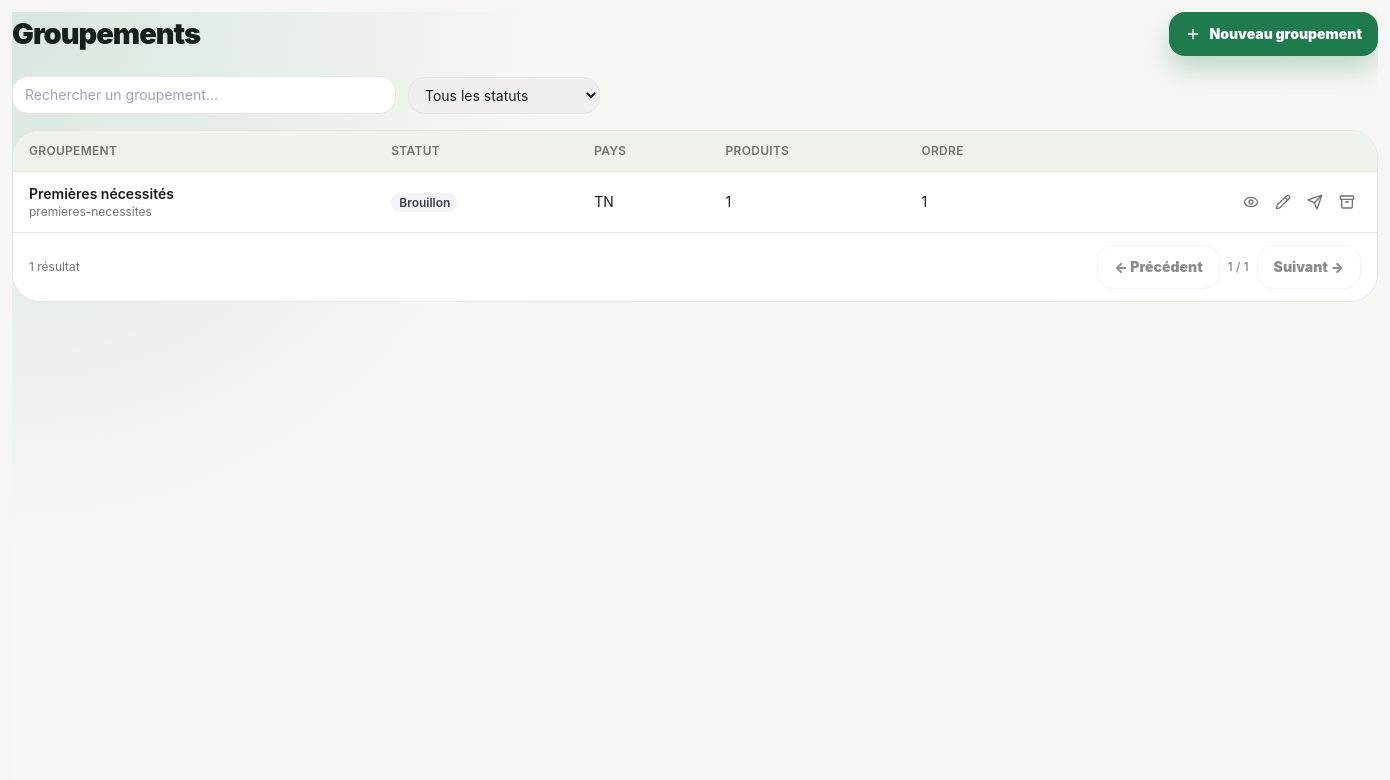
GroupementsPage › ouvre le détail, édite les items, ajoute une référence produit et affiche le refus doublon
Step 1. Click the button named "Voir le détail Premières nécessités" → click(1251, 202), box [1237,188,1265,216]
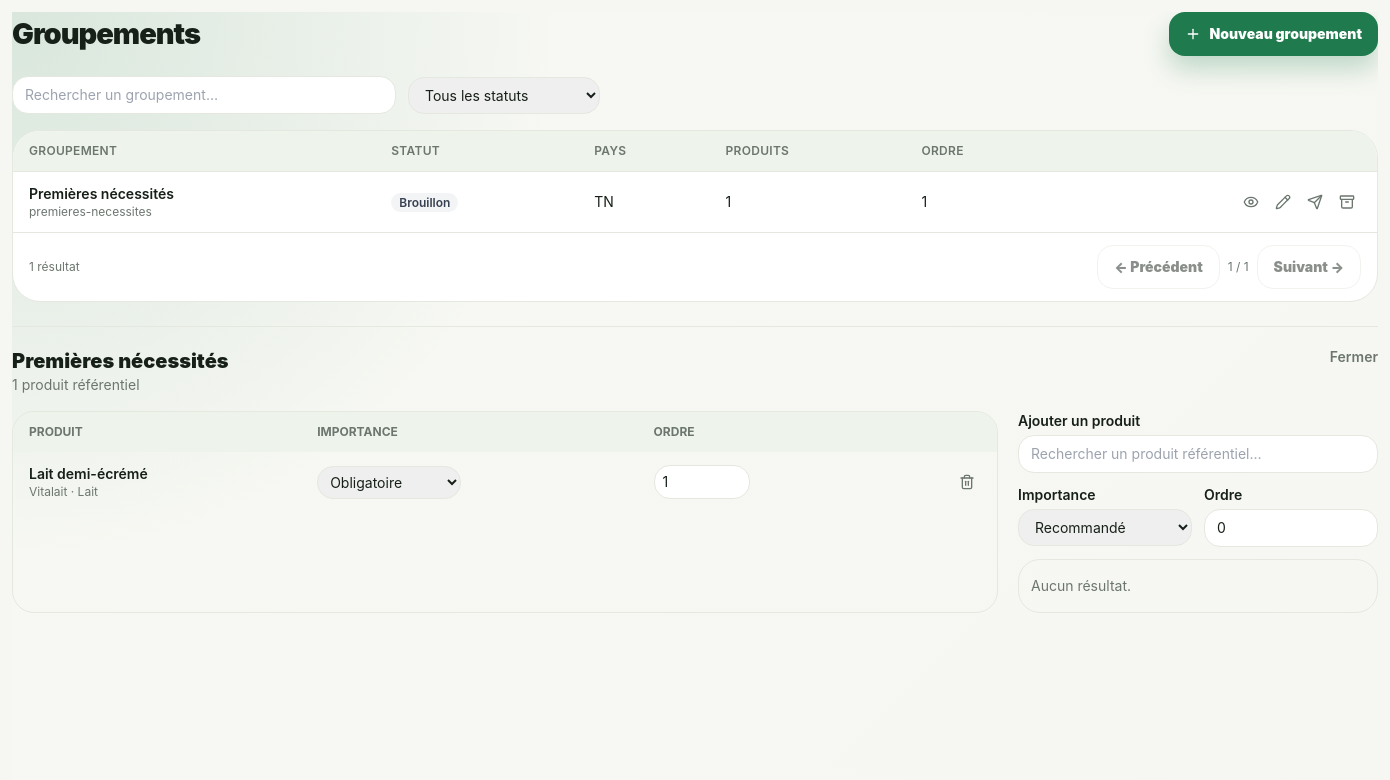
Expected: the text "Lait demi-écrémé" is shown, [29,465,148,482]
Step 2. Select "Optionnel" in the dropdown named "Importance Lait demi-écrémé" → (389, 482), box [317,466,461,498]
Step 3. Replace the text in the number field named "Ordre Lait demi-écrémé" with "4" → (702, 482), box [654,465,750,499]
Step 4. Type "lait" into the search field with placeholder "Rechercher un produit référentiel…" → (1198, 454), box [1018,435,1378,473]
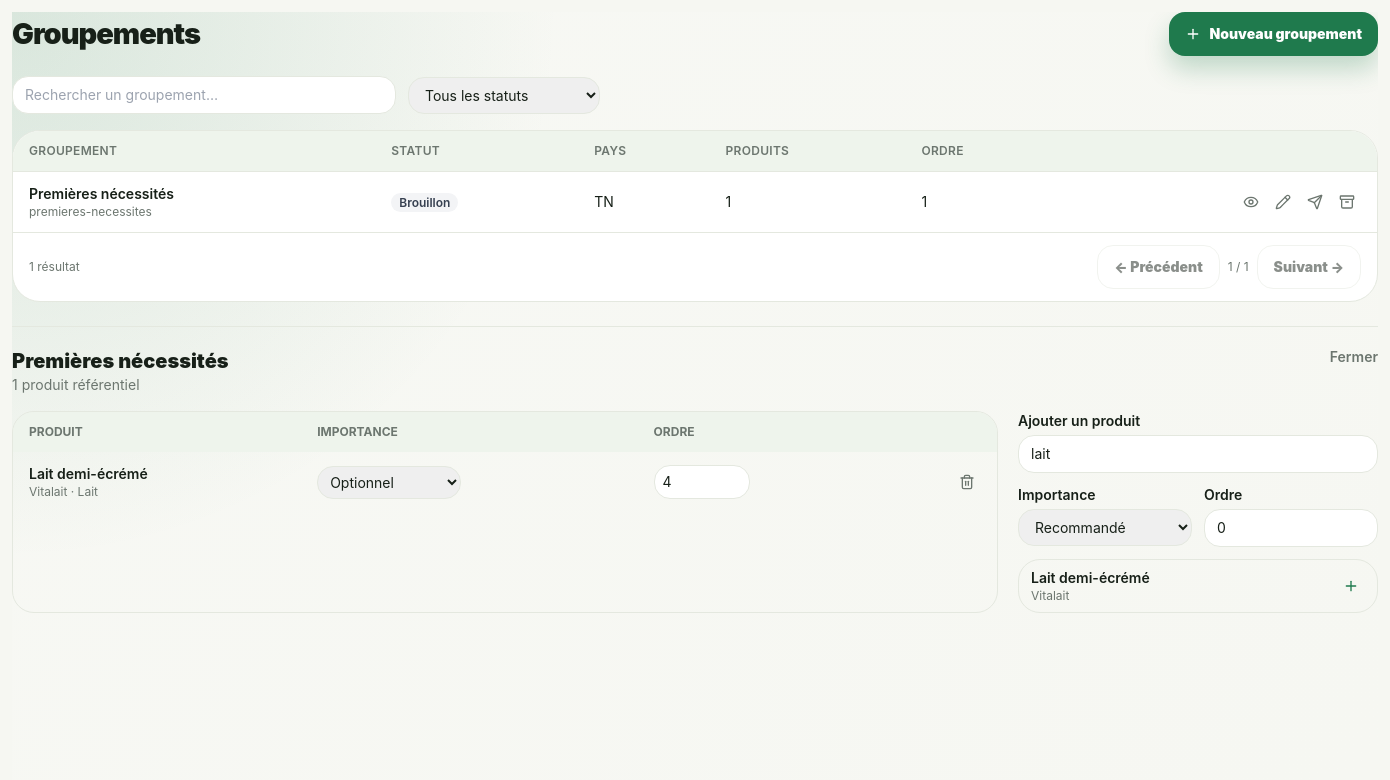
Step 5. Select "Obligatoire" in the dropdown labelled "Importance" → (1105, 528), box [1018,509,1192,546]
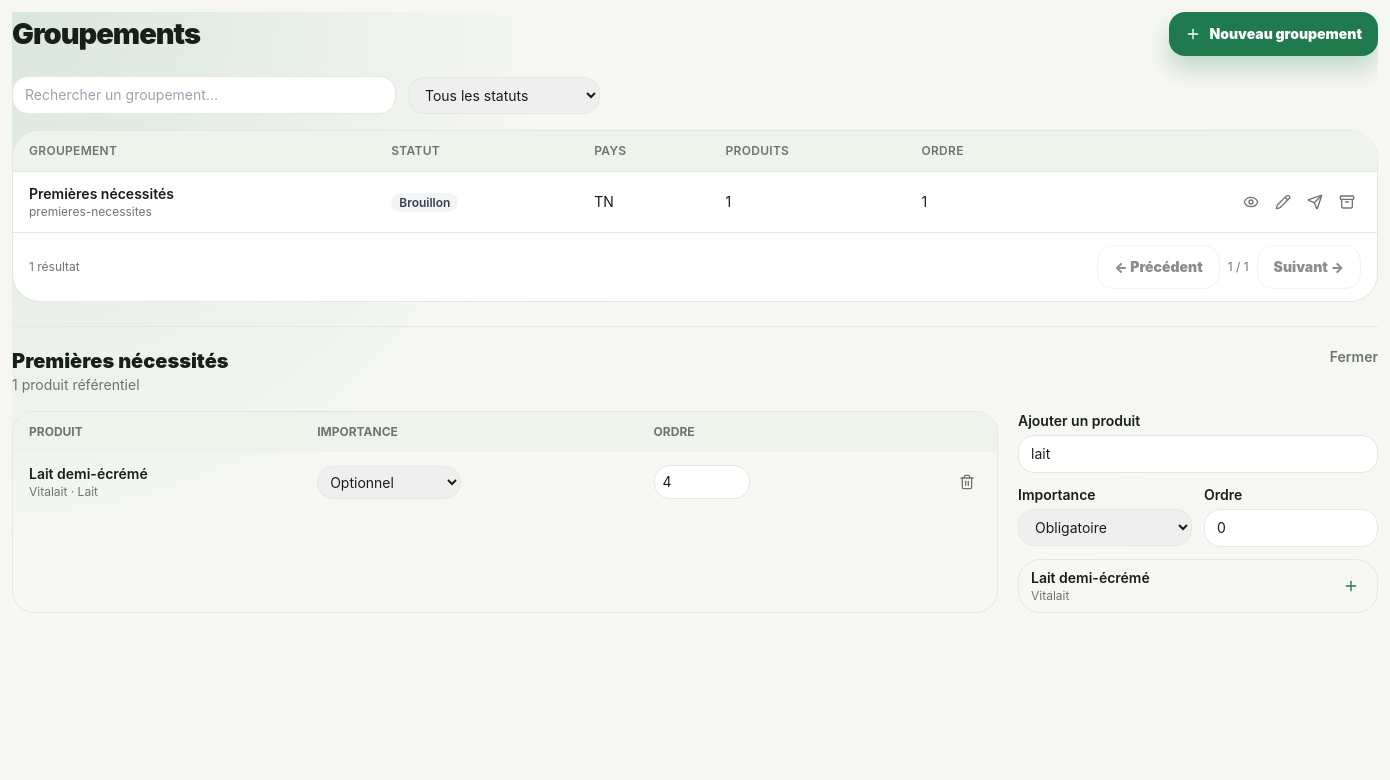
Step 6. Replace the text in the number field labelled "Ordre" with "3" → (1291, 528), box [1204,509,1378,547]
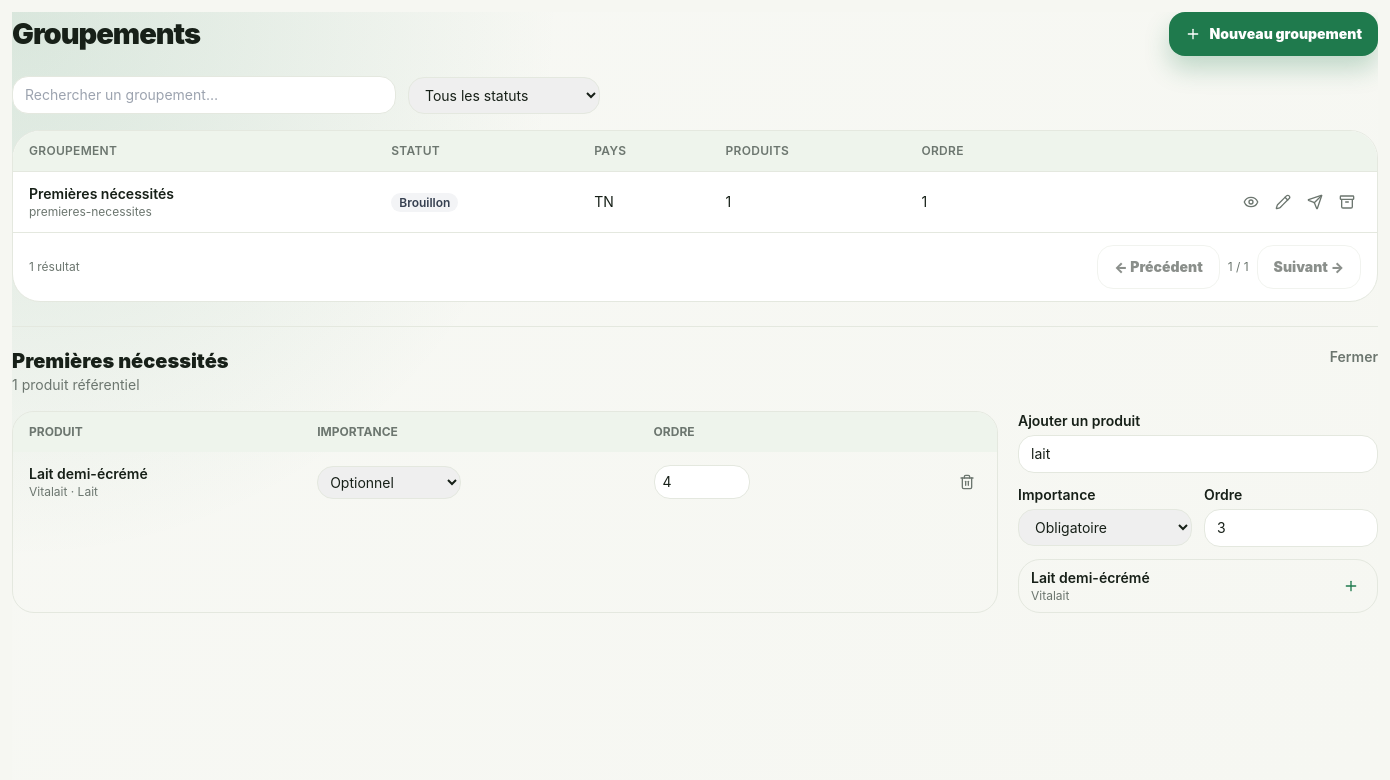
Step 7. Click the button named "Ajouter Lait demi-écrémé" → click(1351, 586), box [1337,572,1365,600]
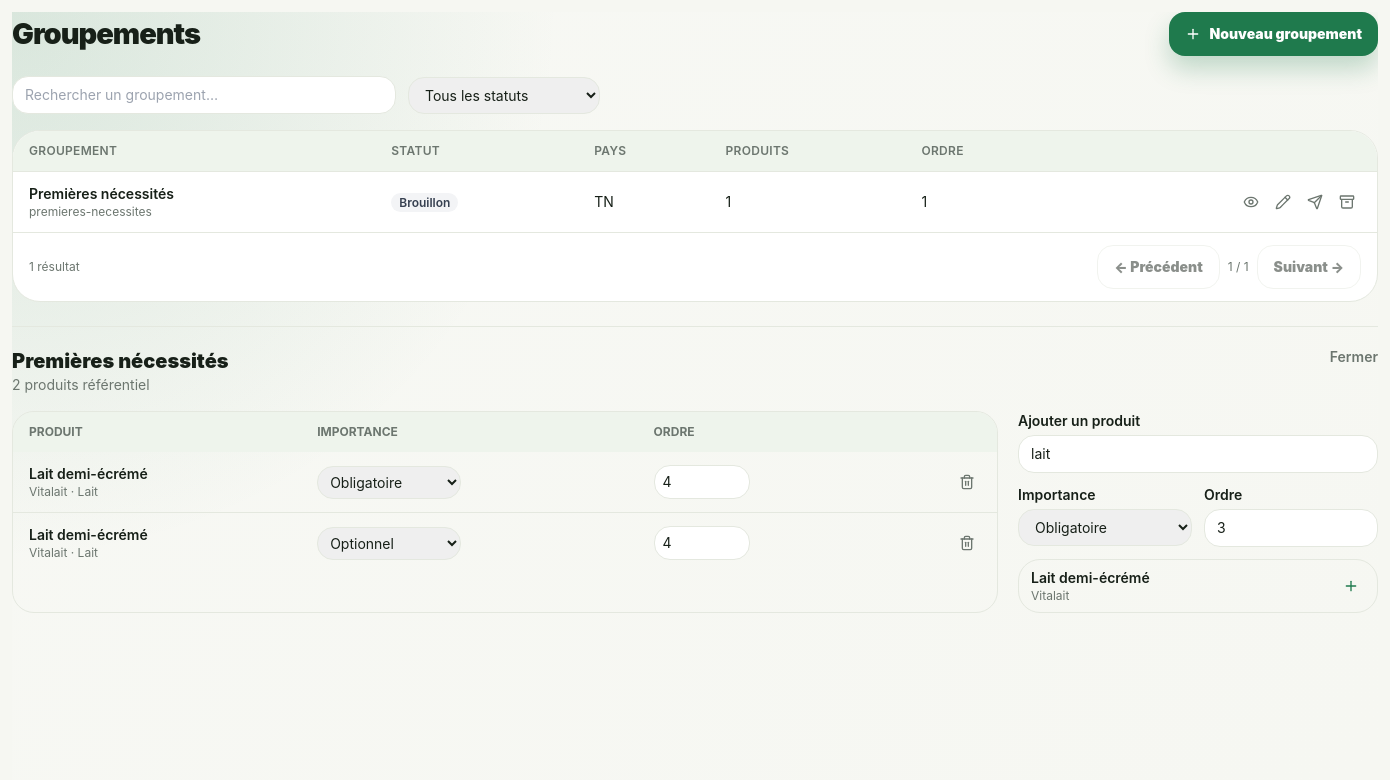
Step 8. Click the button named "Ajouter Lait demi-écrémé" → click(1351, 586), box [1337,572,1365,600]
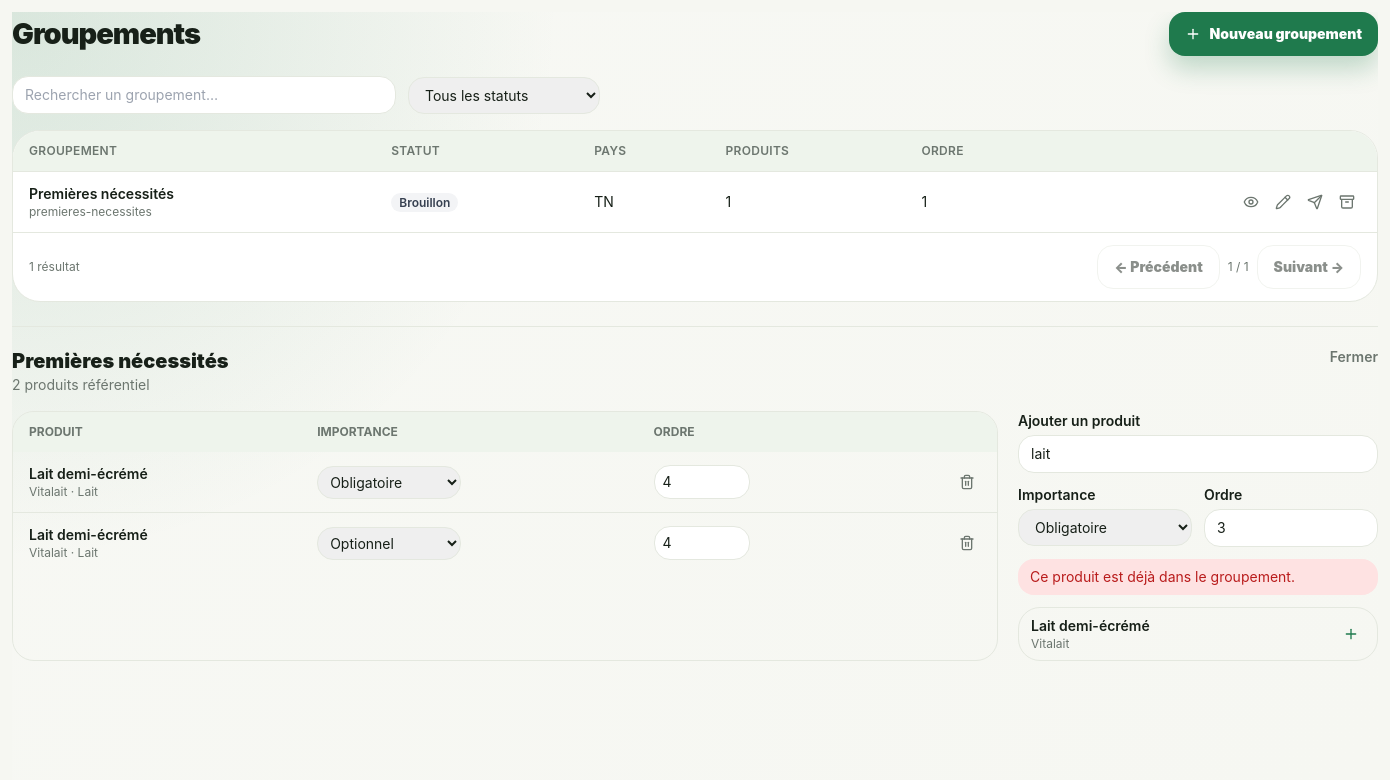
Expected: the text "Ce produit est déjà dans le groupement." is shown, [1018,559,1378,595]
